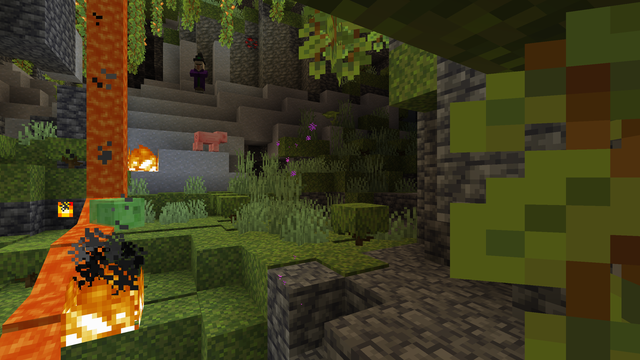cochons: (196, 130, 218, 152)
slimes: (93, 196, 139, 229)
sorcieres: (193, 58, 204, 94)
